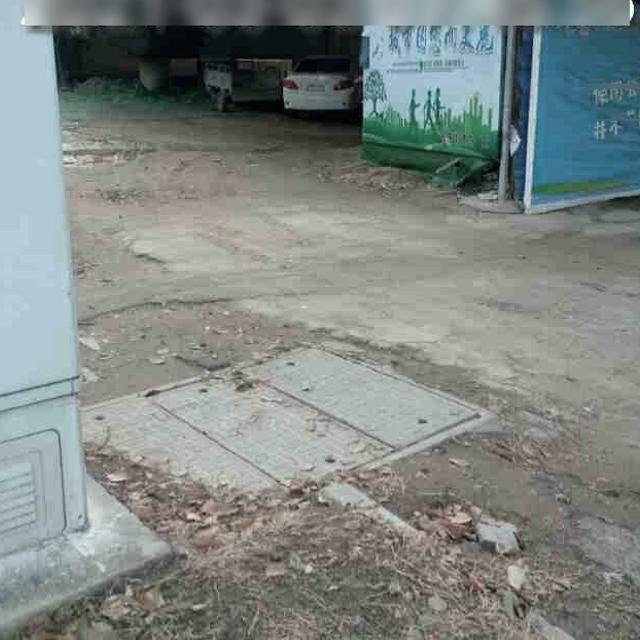good: (78, 344, 496, 497)
